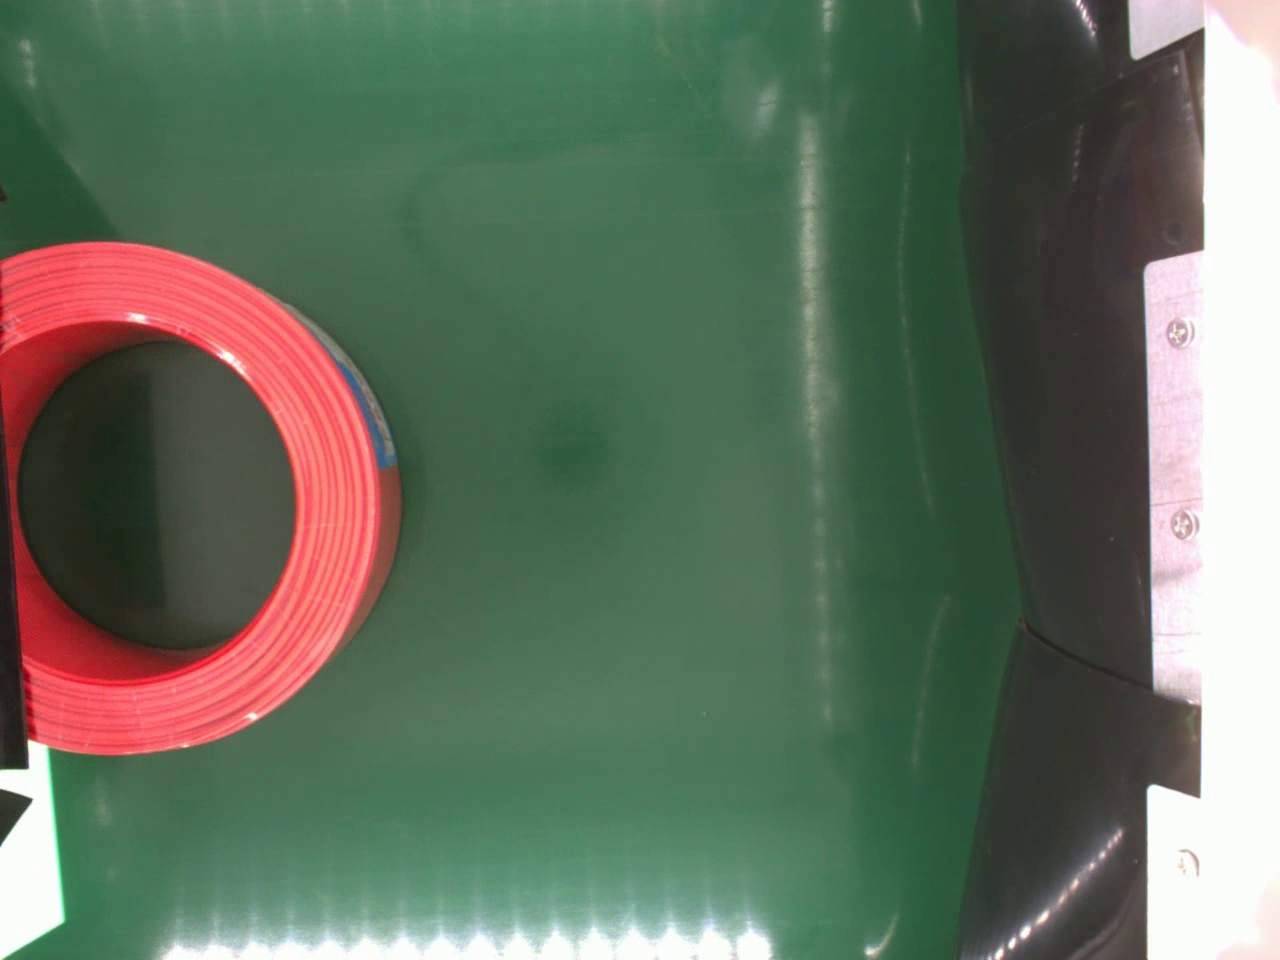red: (1, 239, 407, 759)
